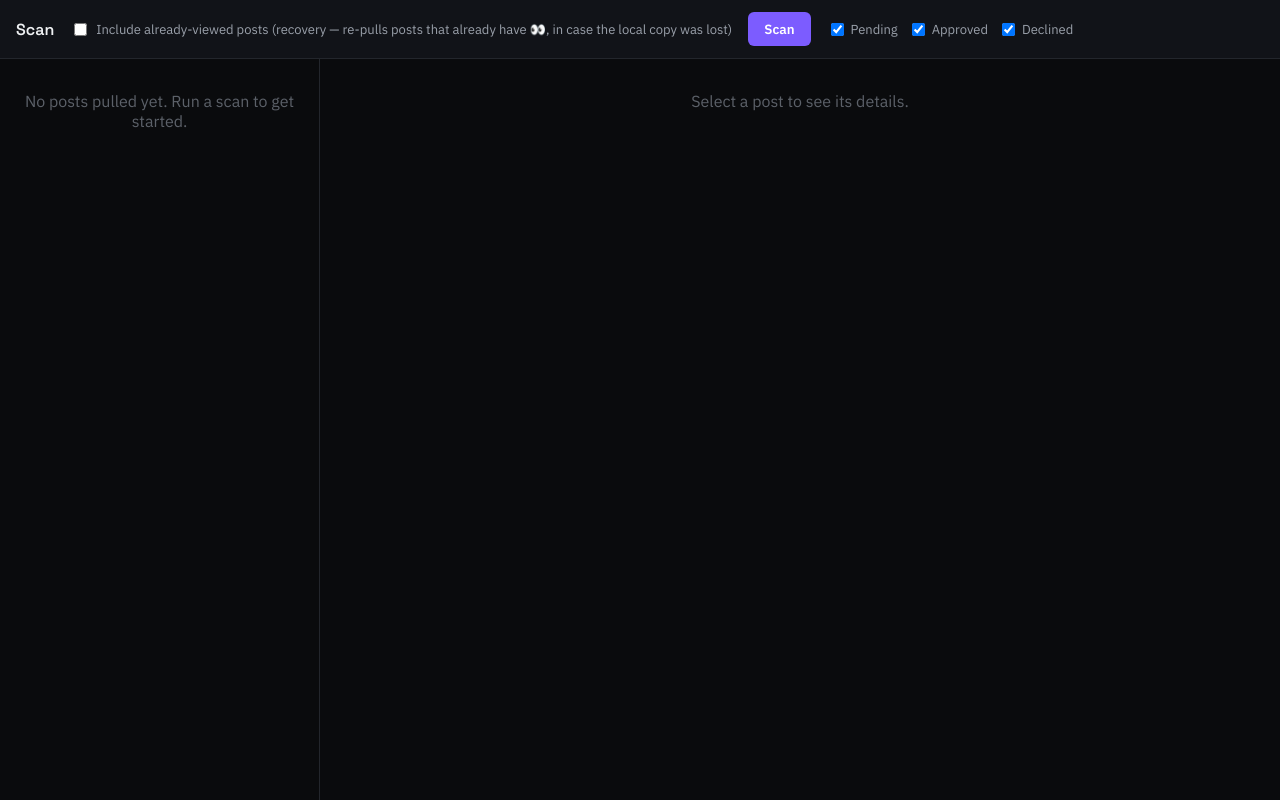
Test: ScanPanel › shows an error and exits the scanning state when the bot process is not running
Step 1. Click the button "Scan" → (779, 29), box [748, 12, 810, 46]
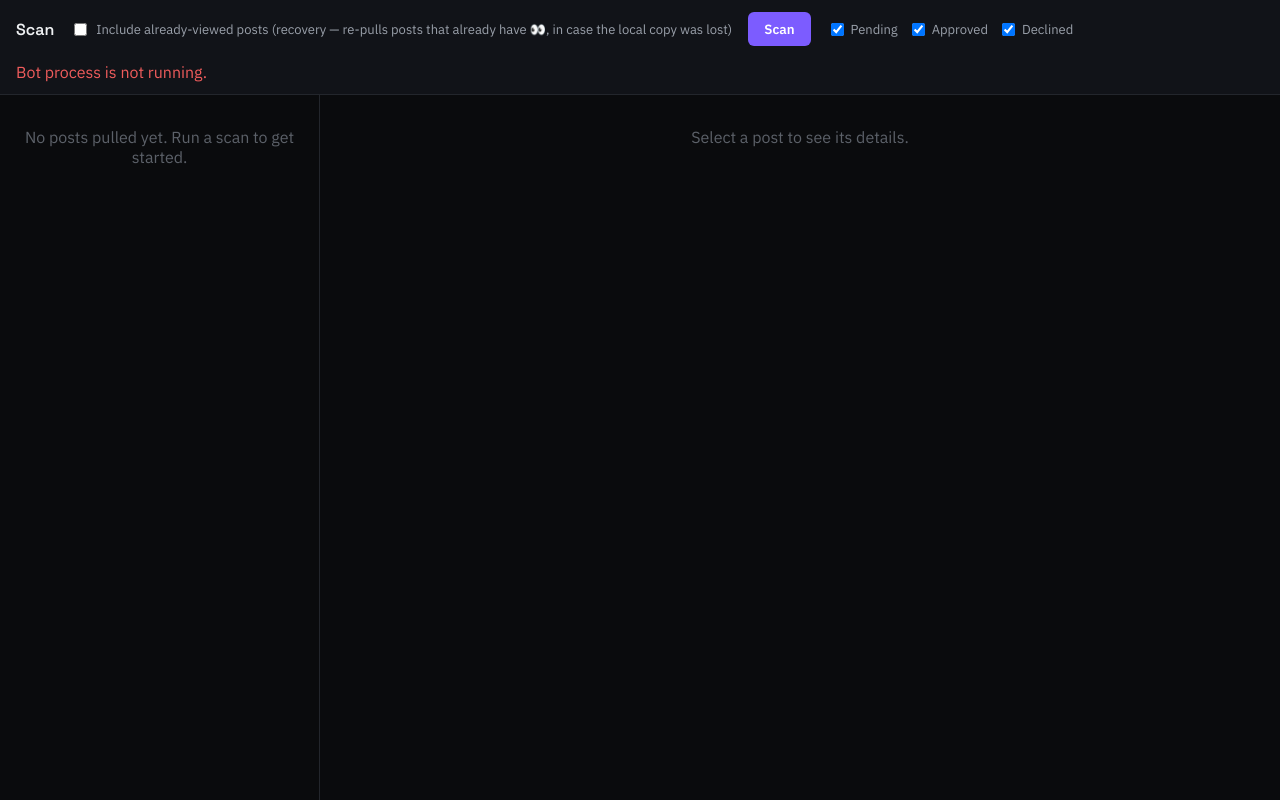
Expected: the message reads "Bot process is not running.", [16, 62, 207, 82]
